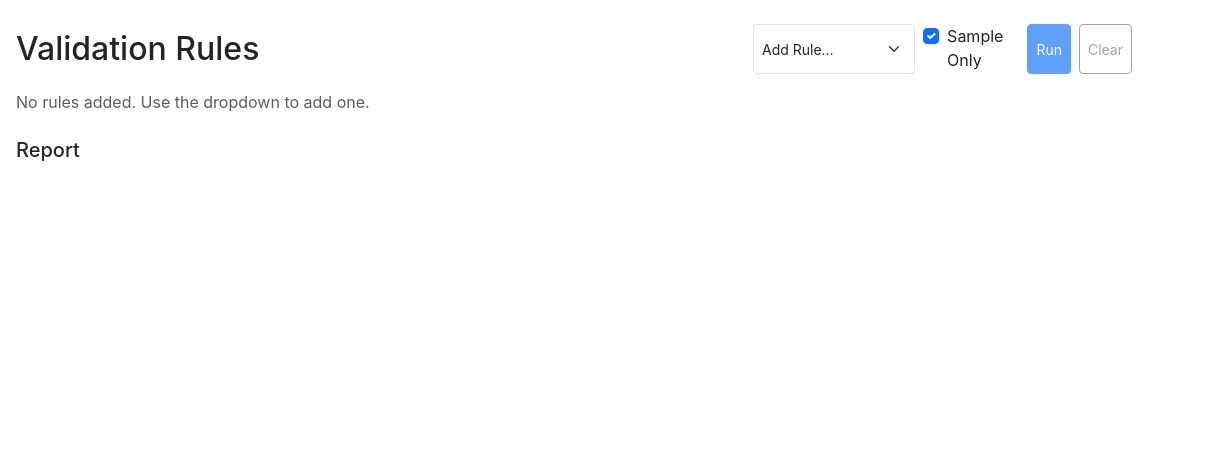
Test: Validation Rules UI › adds a uniqueness rule and renders report
The image size is (1214, 460).
expect the heading "Validation Rules" is shown: met, box 16,30 -> 259,68
# Add rule
Step 1. Select "uniqueness" in the dropdown → (834,49), box 753,24 -> 915,74
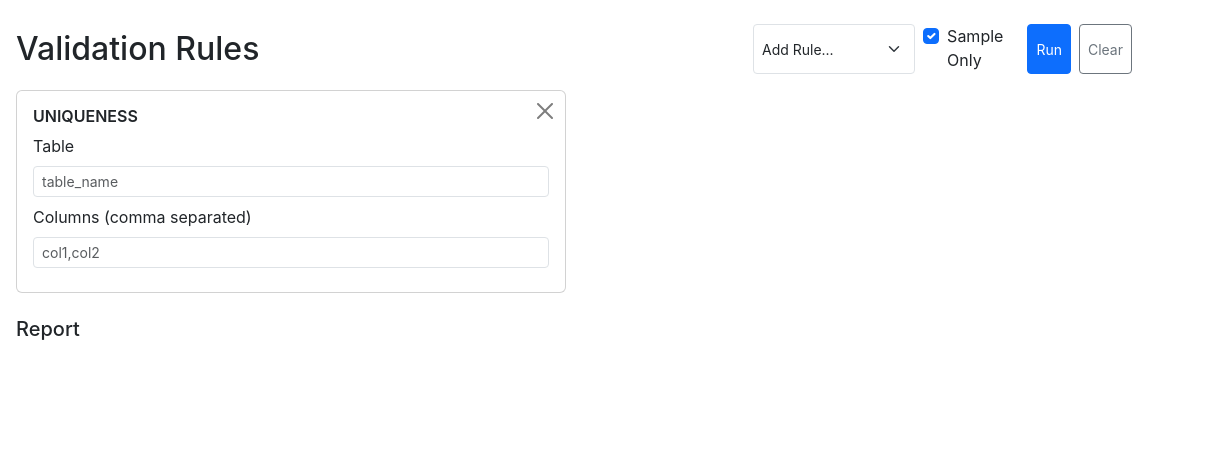
# Fill fields
Step 2. Type "patients" into the field named "Uniqueness table" → (291,182), box 33,166 -> 549,197
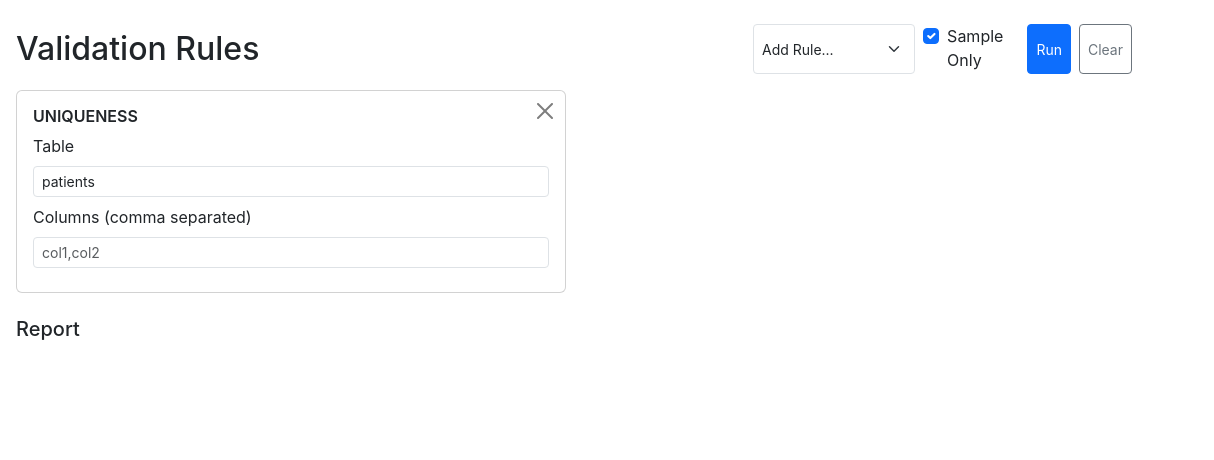
Step 3. Type "id" into the field named "Uniqueness columns" → (291,253), box 33,237 -> 549,268
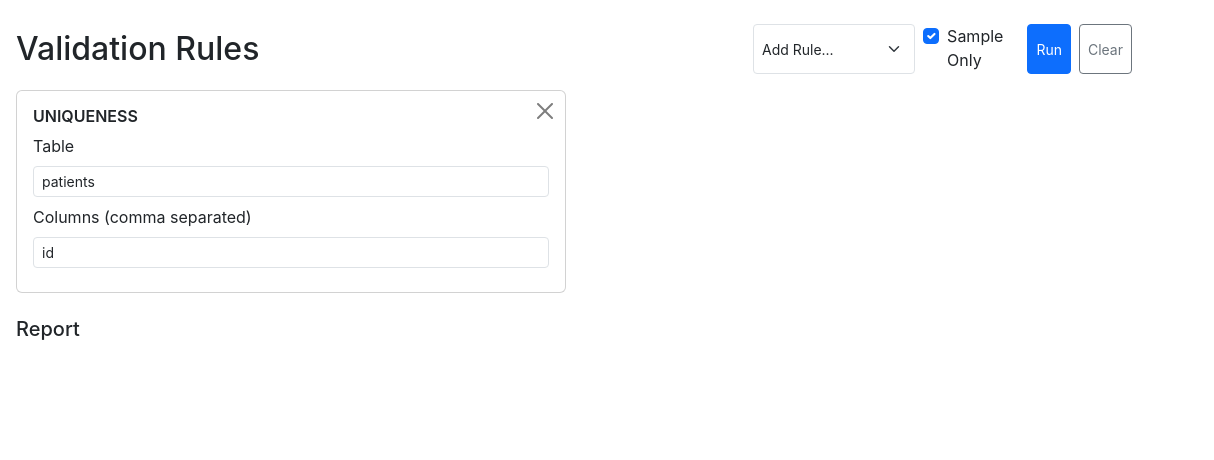
Step 4. Click the button "Run" → (1049,49), box 1027,24 -> 1071,74
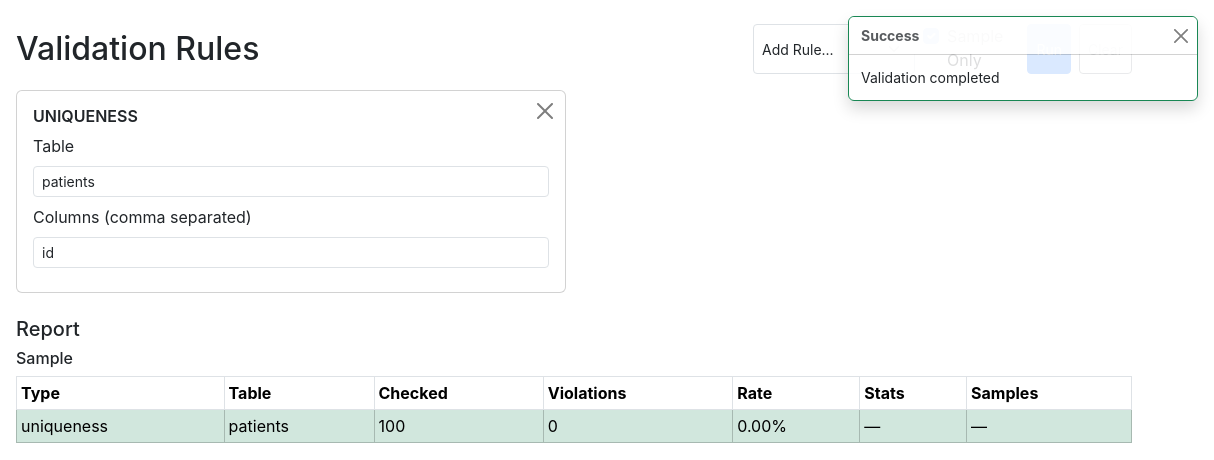
expect the text "patients" is shown: met, box 224,410 -> 374,443
expect the text "0.00%" is shown: met, box 733,410 -> 860,443
